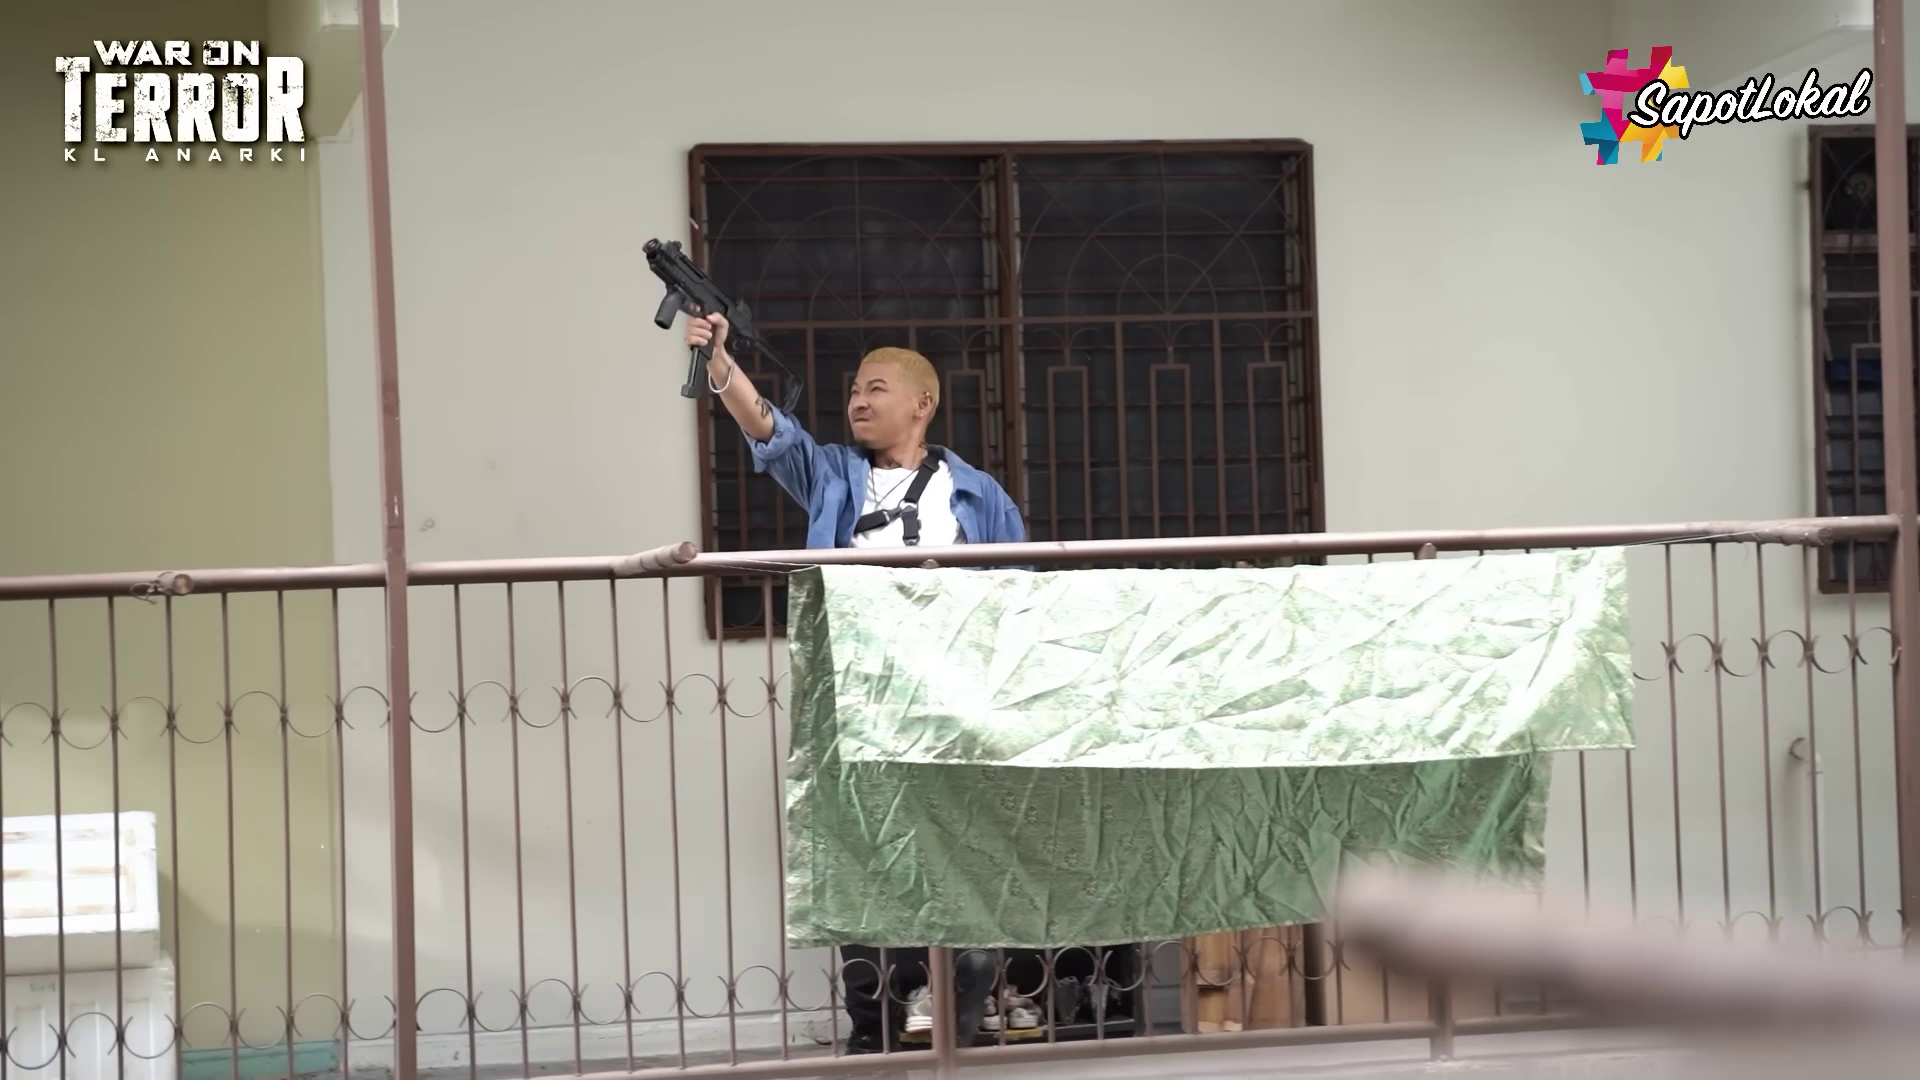gun: (637, 231, 810, 422)
p_w_gun: (636, 225, 1038, 1046)
